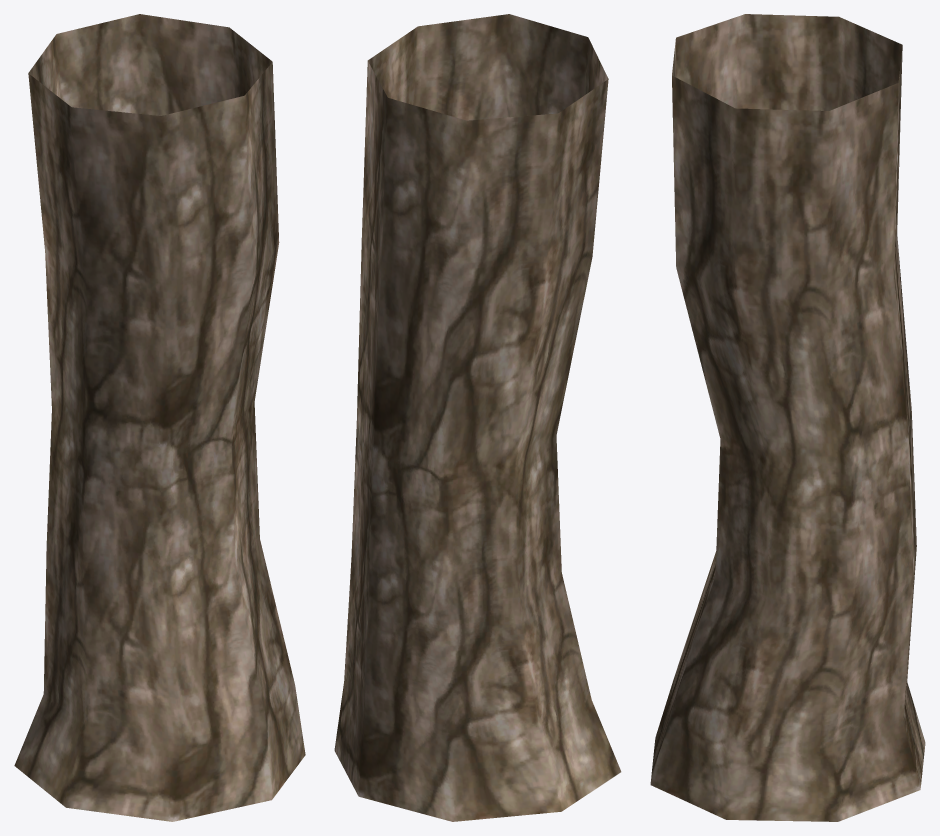
File: EKH_CAVERNS_PS_CA_CYLINDER02.fbx
The picture shows the model from 3 angles, left to right: view 1: azimuth 30°, elevation 25°; view 2: azimuth 150°, elevation 25°; view 3: azimuth 270°, elevation 25°; orthographic projection.
Visible parts, largest first — view 1: EKH_CAVERNS_PS_CA_CYLINDER02; view 2: EKH_CAVERNS_PS_CA_CYLINDER02; view 3: EKH_CAVERNS_PS_CA_CYLINDER02.
Part boxes in pixels (x1=…): EKH_CAVERNS_PS_CA_CYLINDER02: x1=14, y1=14, x2=305, y2=821; EKH_CAVERNS_PS_CA_CYLINDER02: x1=334, y1=14, x2=621, y2=821; EKH_CAVERNS_PS_CA_CYLINDER02: x1=650, y1=14, x2=925, y2=821.
Size of the model in its own units: 37210 by 104718 by 37210.
Materials: 1 (1 with a texture image).
